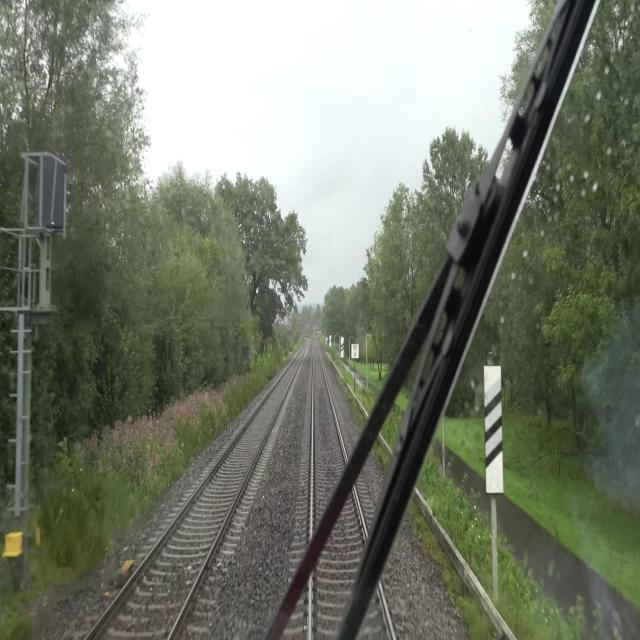rail-track: (126, 351, 302, 639), (312, 343, 391, 639)
